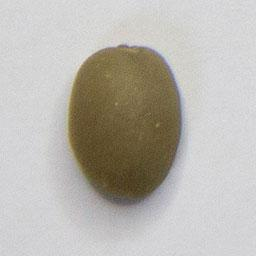premium: (65, 41, 184, 205)
